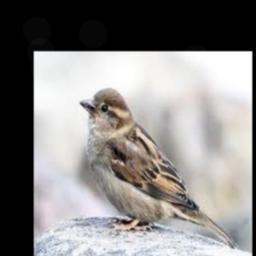Sparrow: (80, 87, 236, 248)
